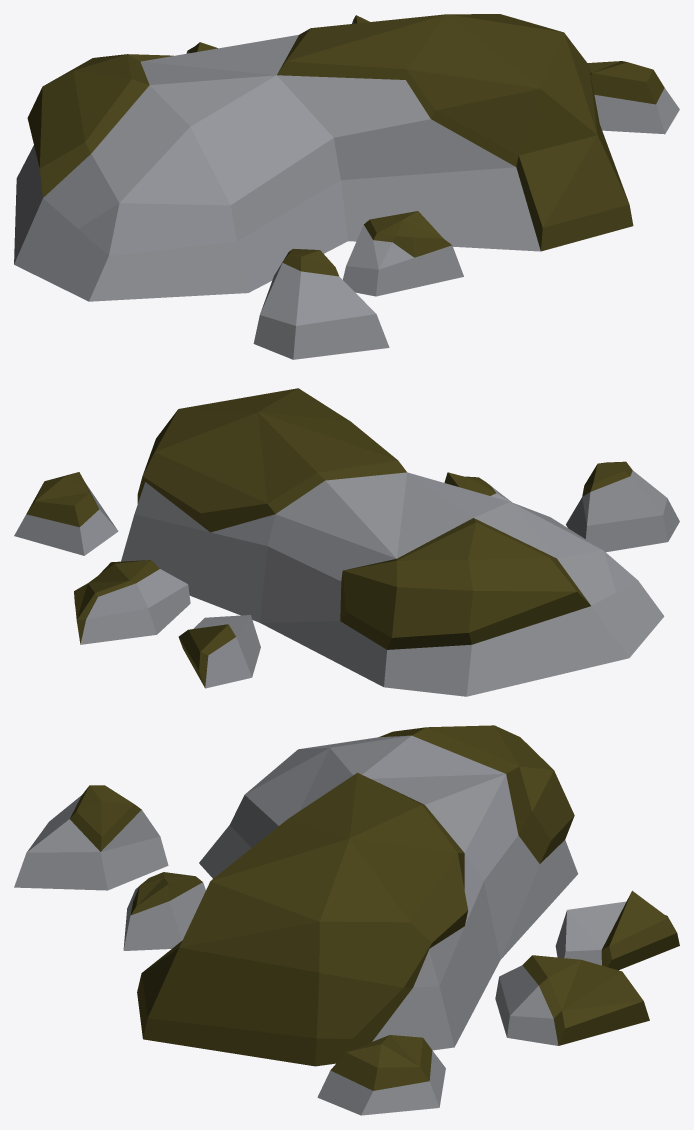
Rendered from stone_with_moss_6.fbx.
3 renders of one model, top to bottom at view 1: azimuth 30°, elevation 25°; view 2: azimuth 150°, elevation 25°; view 3: azimuth 270°, elevation 25°, orthographic. The views are drawn at different scales.
Visible parts, largest first — view 1: stone_with_moss_6; view 2: stone_with_moss_6; view 3: stone_with_moss_6.
Boxes of the visible parts, left/top/right/bottom form: stone_with_moss_6: left=14, top=14, right=679, bottom=359; stone_with_moss_6: left=14, top=388, right=679, bottom=696; stone_with_moss_6: left=14, top=725, right=679, bottom=1115.
Bounding box in the file's own units: 206 × 46.99 × 178.
